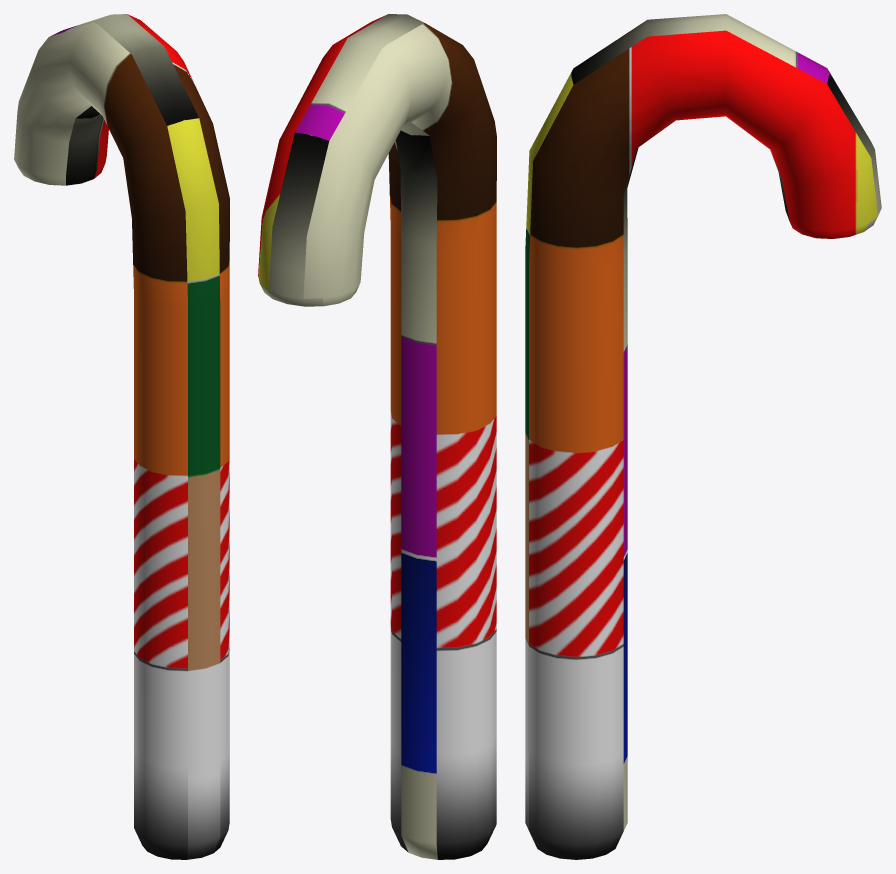
The model's file is shugar stik hp.fbx.
3 views of the same model, side by side, from view 1: azimuth 30°, elevation 25°; view 2: azimuth 150°, elevation 25°; view 3: azimuth 270°, elevation 25° (orthographic). The views are drawn at different scales.
Parts seen in each view (by area): view 1: bastoncino_hp; view 2: bastoncino_hp; view 3: bastoncino_hp.
Boxes of the visible parts, x1,y1,x2,y2 form: bastoncino_hp: [14, 14, 229, 859]; bastoncino_hp: [258, 14, 496, 859]; bastoncino_hp: [525, 14, 881, 859].
Size of the model in its own units: 0.2289 by 1.97 by 0.7669.
